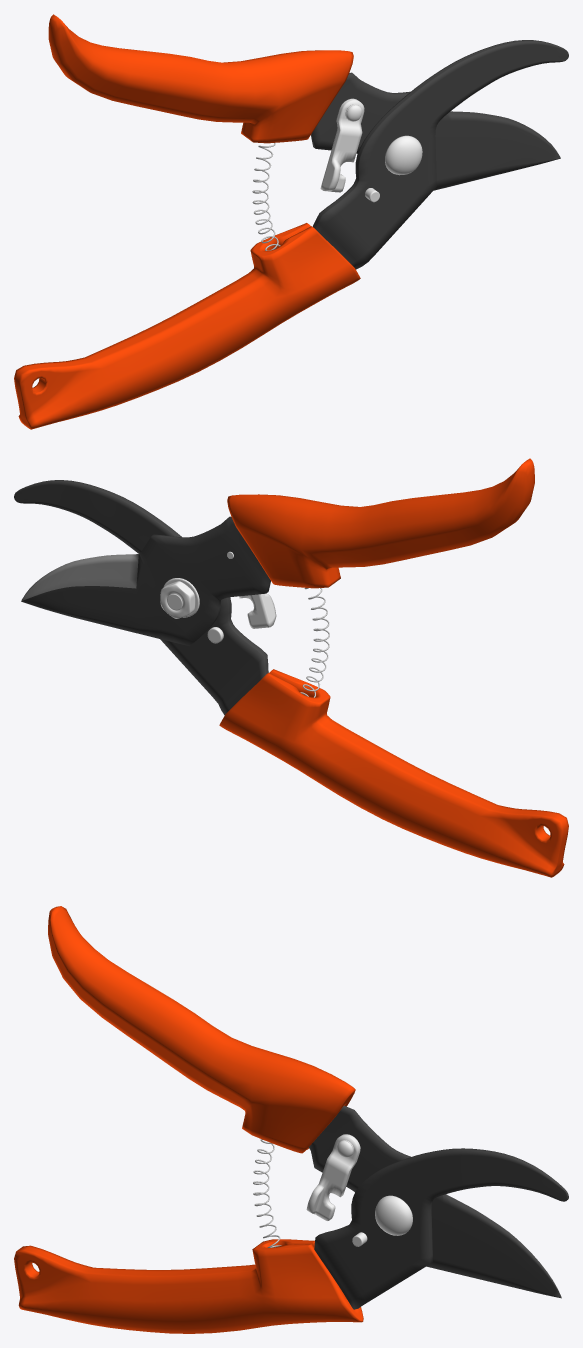
The model's file is Pruning shears.fbx.
3 renders of one model, top to bottom at view 1: azimuth 30°, elevation 25°; view 2: azimuth 150°, elevation 25°; view 3: azimuth 330°, elevation 25°, orthographic.
Visible parts, largest first — view 1: Cube.006; view 2: Cube.006; view 3: Cube.006.
Boxes of the visible parts, x1=… form: Cube.006: x1=14, y1=14, x2=568, y2=429; Cube.006: x1=14, y1=458, x2=568, y2=877; Cube.006: x1=14, y1=906, x2=568, y2=1333.
Size of the model in its own units: 91245 by 64109 by 8836.
